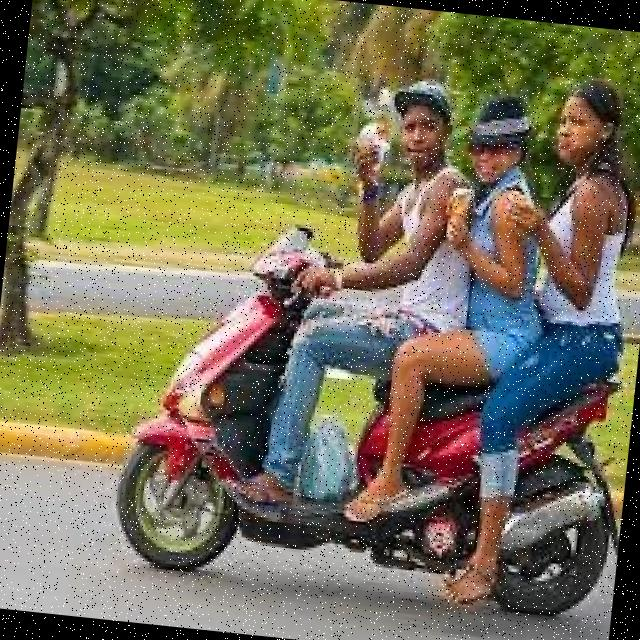Triple riding: (357, 52, 640, 396)
